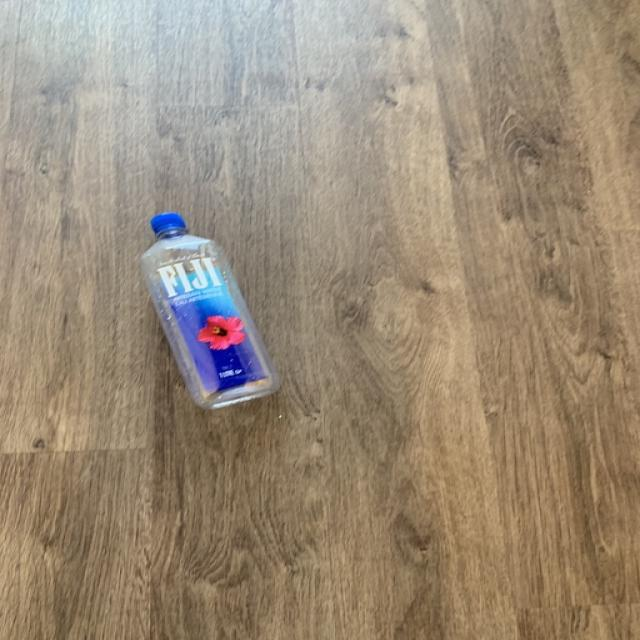Waste: (140, 212, 280, 409)
